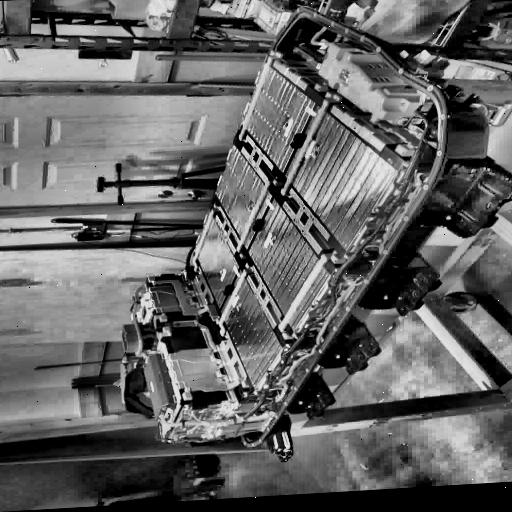battery_module: (289, 113, 402, 254), (248, 197, 334, 333), (245, 67, 315, 172), (223, 274, 284, 391), (215, 144, 272, 248), (194, 211, 239, 308)
bms_unit: (145, 353, 177, 421)
busbar: (279, 90, 343, 198), (278, 248, 343, 339), (237, 50, 282, 142), (236, 175, 285, 258), (151, 278, 219, 321), (218, 262, 254, 335), (182, 377, 249, 400)
connector: (121, 318, 156, 355)
high_volt_cable: (155, 170, 426, 440)
low_volt_cable: (178, 94, 434, 443)
